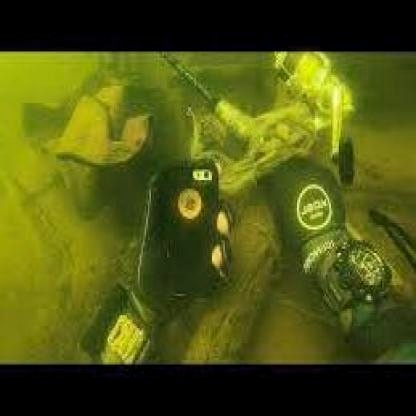cellphone: (161, 159, 220, 300)
